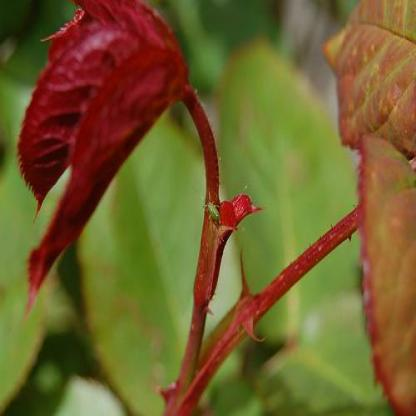aphid: (204, 197, 223, 228)
